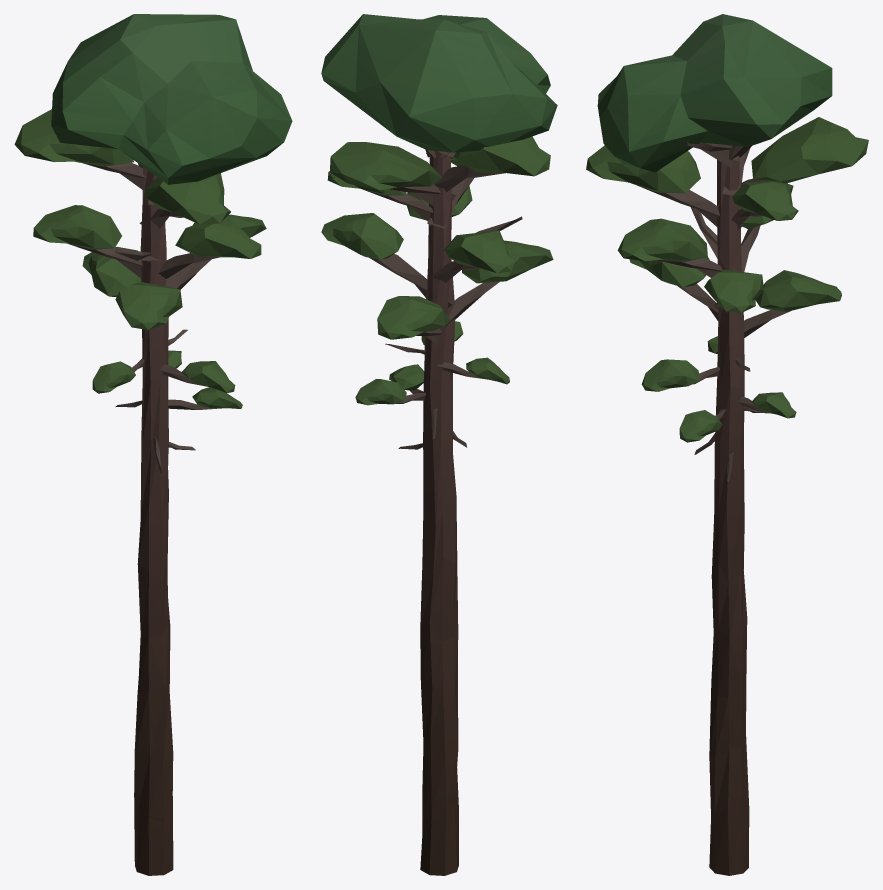
Rendered from Tree09.FBX.
3 renders of one model, left to right at view 1: azimuth 30°, elevation 25°; view 2: azimuth 150°, elevation 25°; view 3: azimuth 270°, elevation 25°, orthographic.
Parts seen in each view (by area): view 1: Tree_pine_04; view 2: Tree_pine_04; view 3: Tree_pine_04.
Boxes of the visible parts, box(x1,y1,x2,y2) form: Tree_pine_04: box(14, 14, 292, 875); Tree_pine_04: box(321, 14, 557, 875); Tree_pine_04: box(586, 14, 868, 875).
Bounding box in the file's own units: 688 × 2407 × 732.
